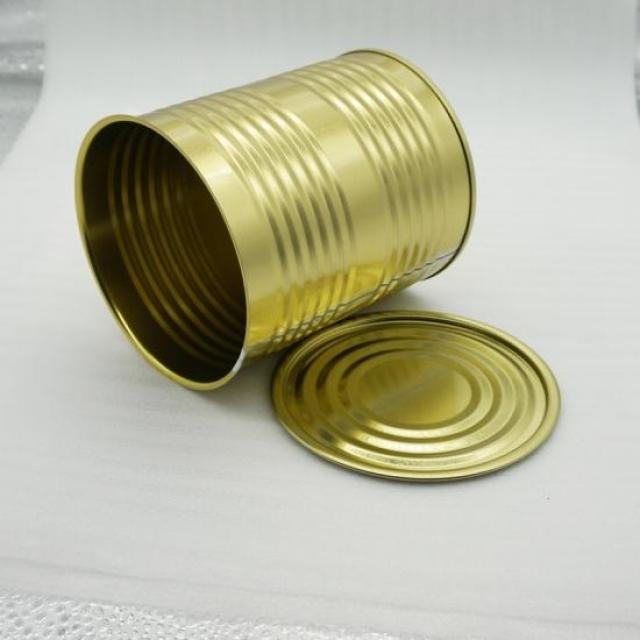plastic_bottle: (59, 30, 580, 517)
